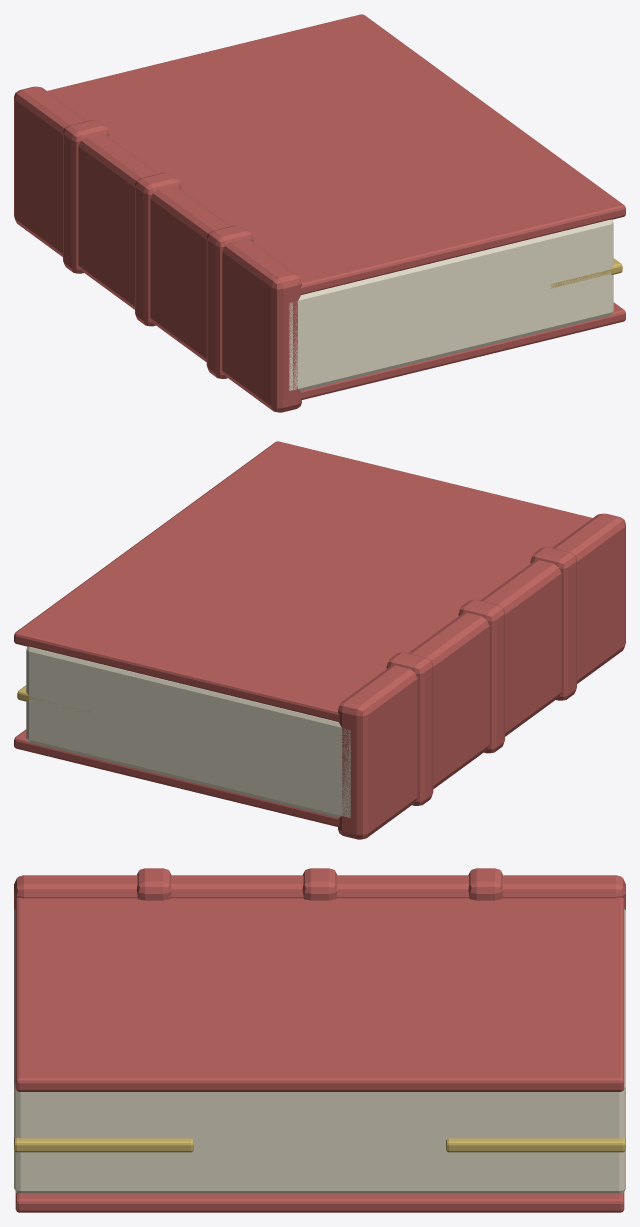
File: finished_codex.glb
3 renders of one model, top to bottom at view 1: azimuth 30°, elevation 25°; view 2: azimuth 150°, elevation 25°; view 3: azimuth 270°, elevation 25°, orthographic. The views are drawn at different scales.
Parts seen in each view (by area): view 1: 104-finished-codex/1, 104-finished-codex/0; view 2: 104-finished-codex/1, 104-finished-codex/0; view 3: 104-finished-codex/1, 104-finished-codex/0, 104-finished-codex/2.
Part boxes in pixels (x1,y1,x2,y2): 104-finished-codex/1: (14,14,625,412); 104-finished-codex/0: (289,219,613,390); 104-finished-codex/1: (14,441,625,839); 104-finished-codex/0: (26,646,350,817); 104-finished-codex/1: (14,868,625,1212); 104-finished-codex/0: (14,909,625,1193); 104-finished-codex/2: (14,1137,625,1152).
Size of the model in its own units: 1.55 by 0.5914 by 2.
